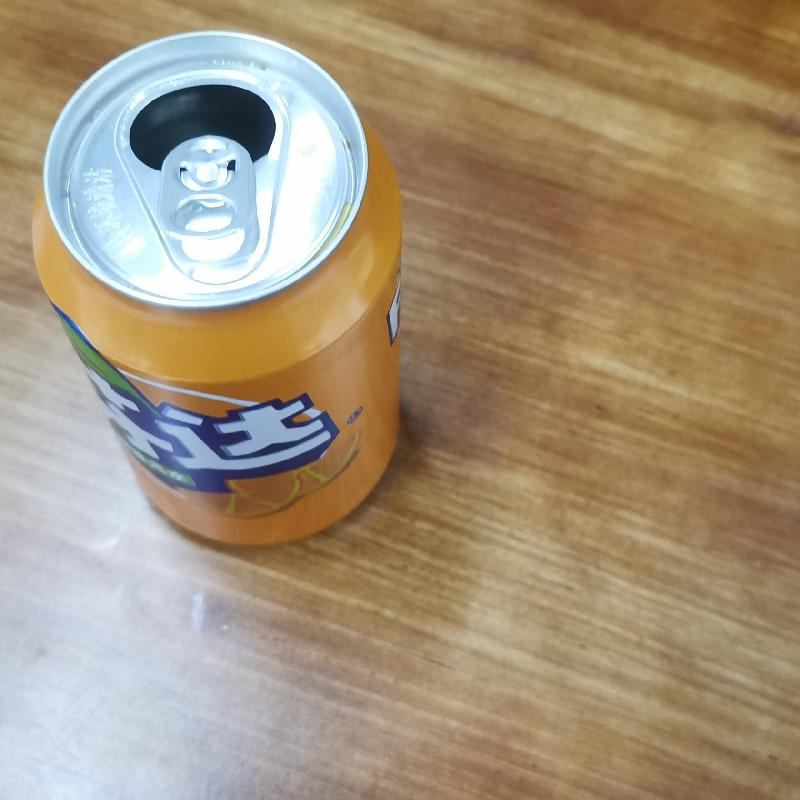cans: (28, 31, 407, 565)
